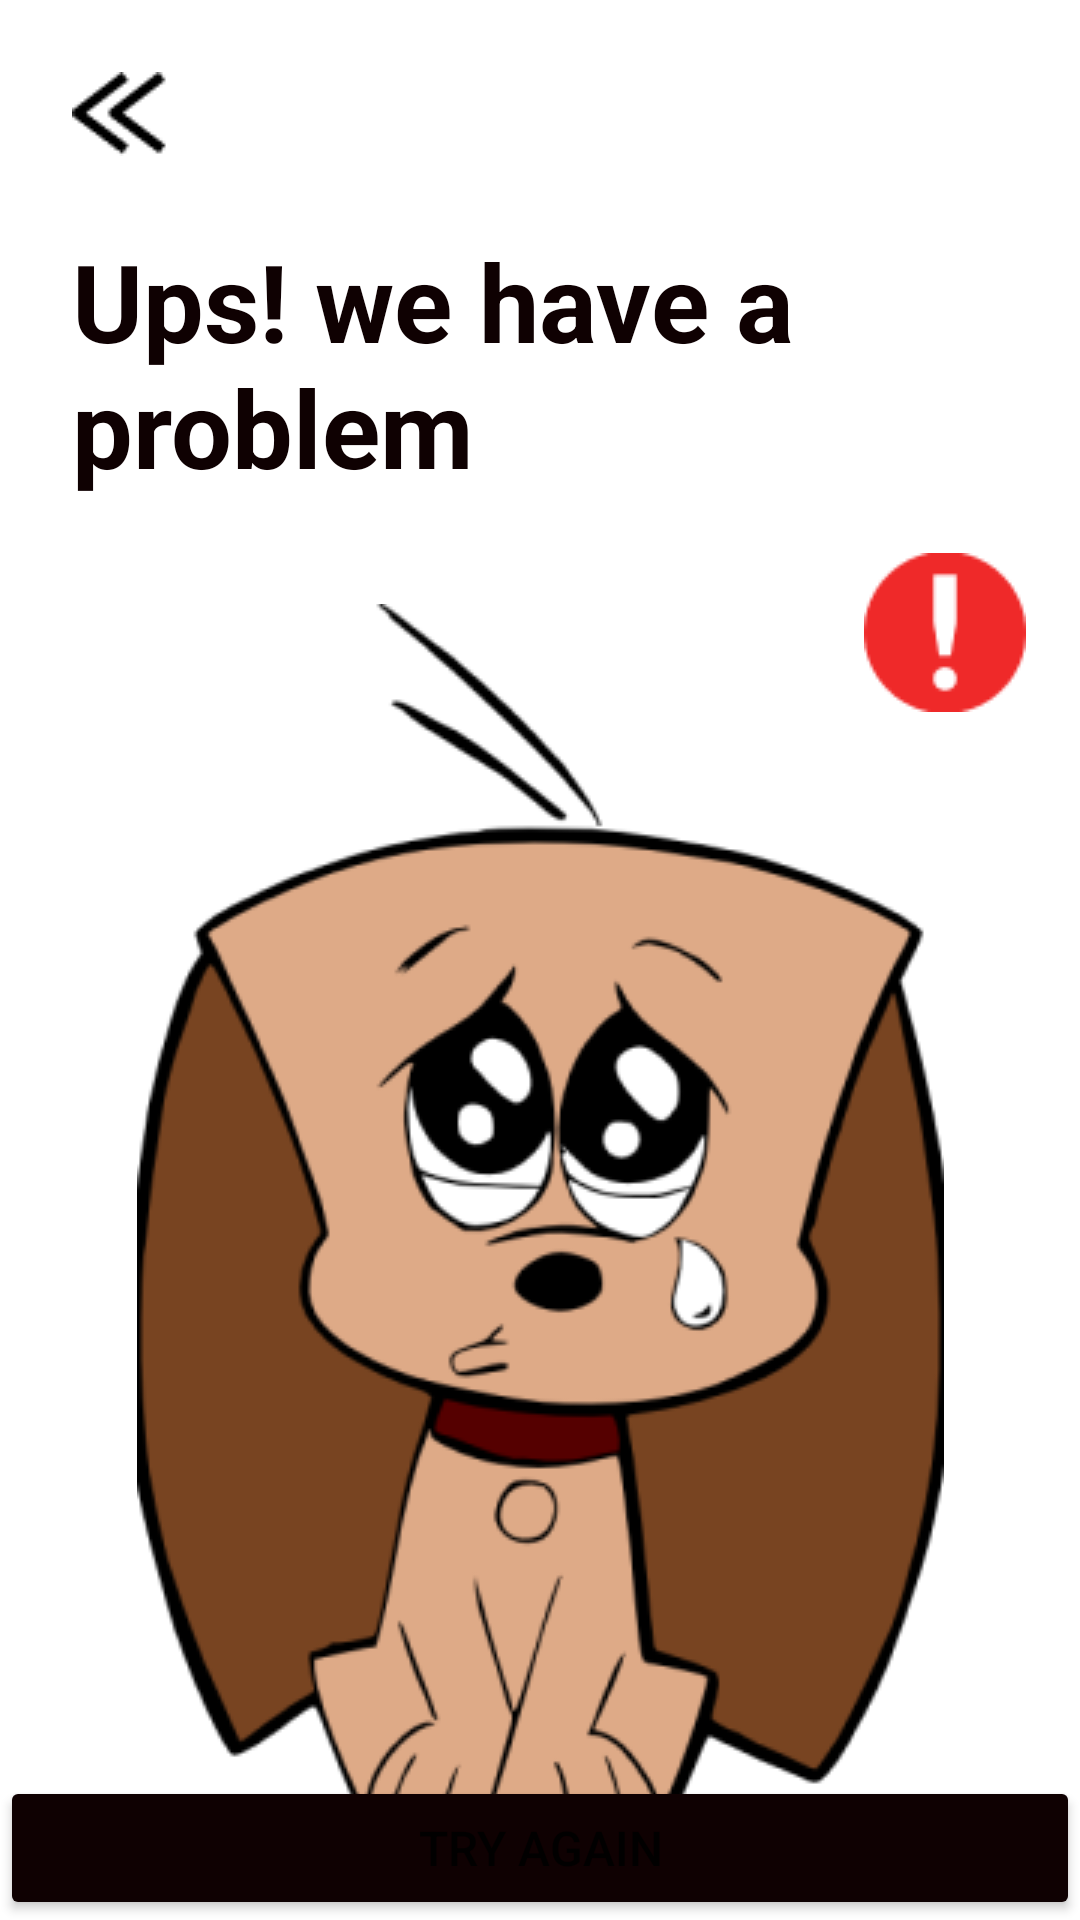

Icons on this 1080px×1920px Android screen, each with its box as (x1, y1, x2, y2):
alert error: (864, 553, 1026, 712)
